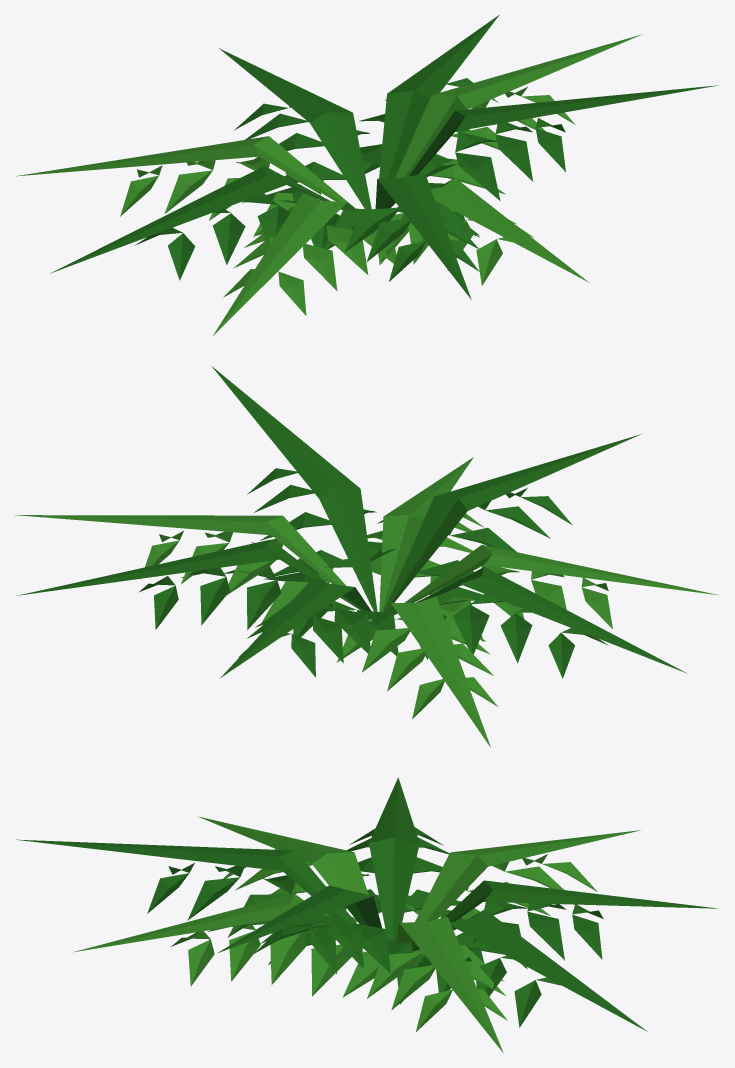
File: fern.glb
The picture shows the model from 3 angles, top to bottom: view 1: azimuth 30°, elevation 25°; view 2: azimuth 150°, elevation 25°; view 3: azimuth 270°, elevation 25°; orthographic projection. The views are drawn at different scales.
Parts seen in each view (by area): view 1: Fern; view 2: Fern; view 3: Fern.
Boxes of the visible parts, box(x1,y1,x2,y2) form: Fern: box(16, 14, 718, 336); Fern: box(15, 366, 718, 747); Fern: box(16, 777, 717, 1052).
Size of the model in its own units: 1.5 by 0.3086 by 1.39.
